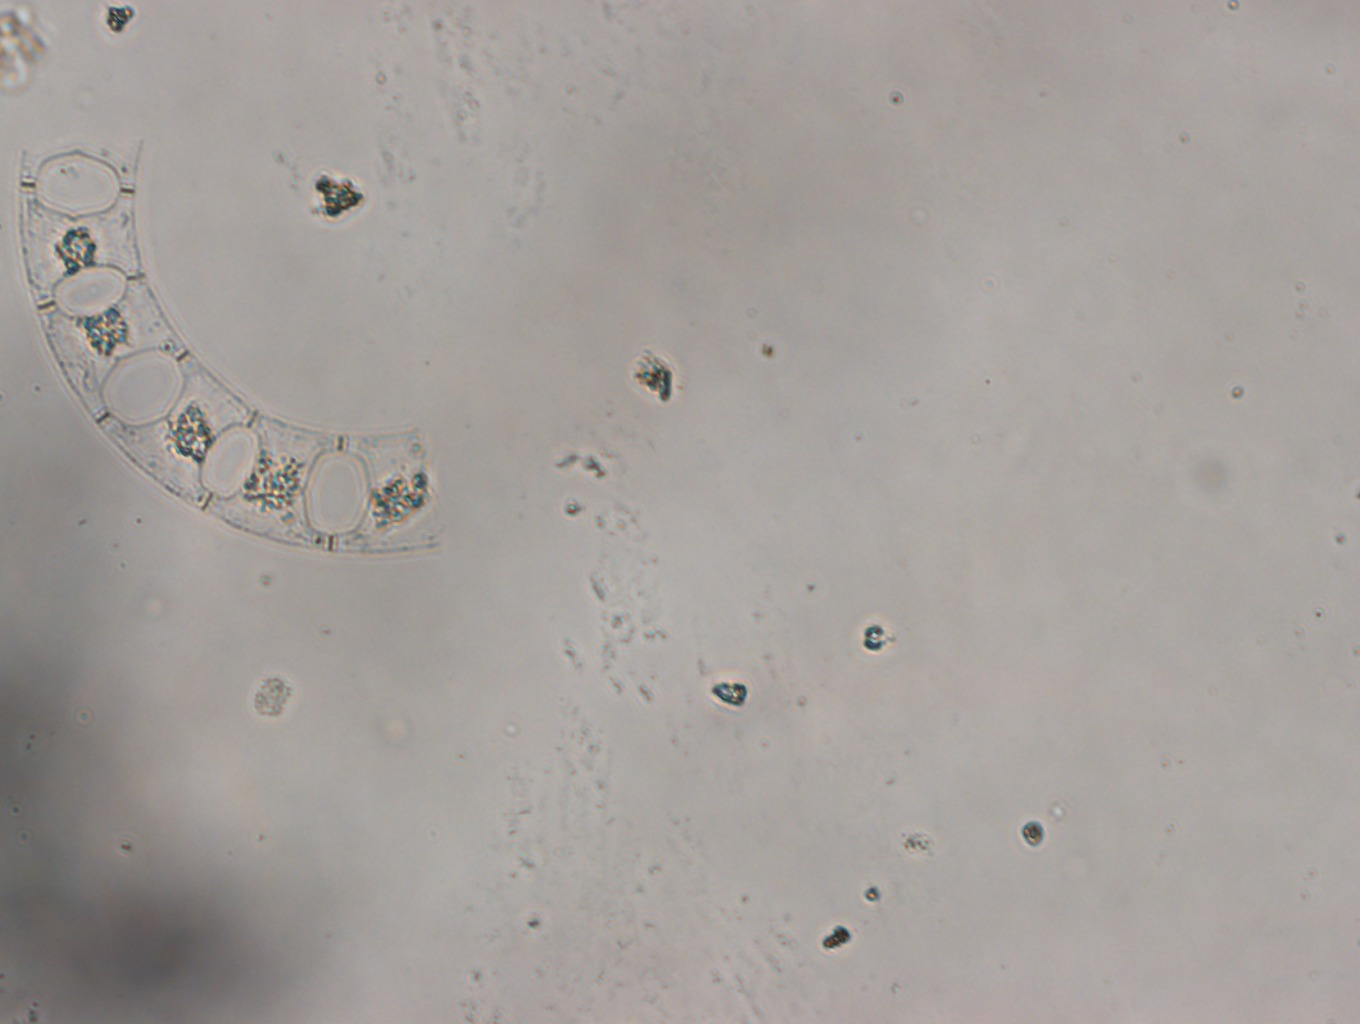eucampia: (18, 143, 441, 550)
